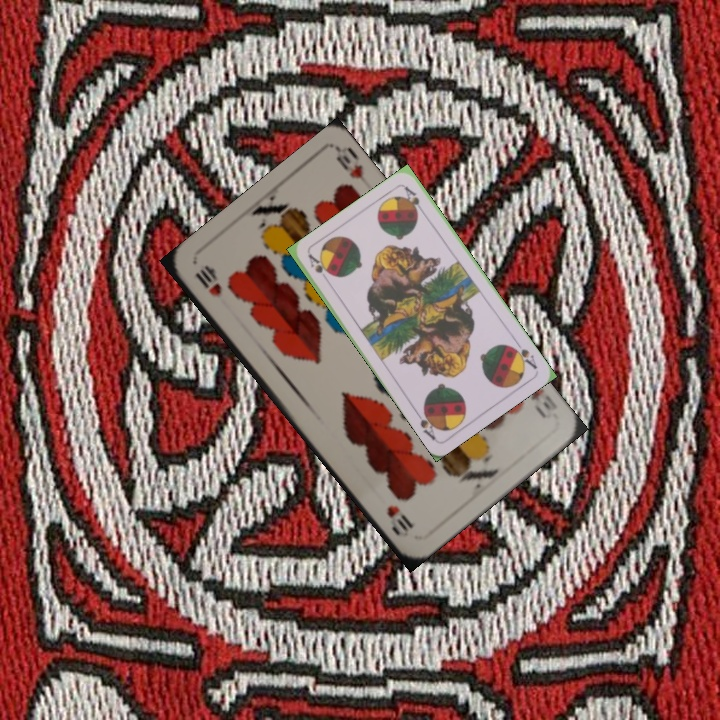H10: (526, 382, 560, 422), (191, 262, 224, 299)
SA: (506, 336, 540, 372), (304, 251, 332, 277)
